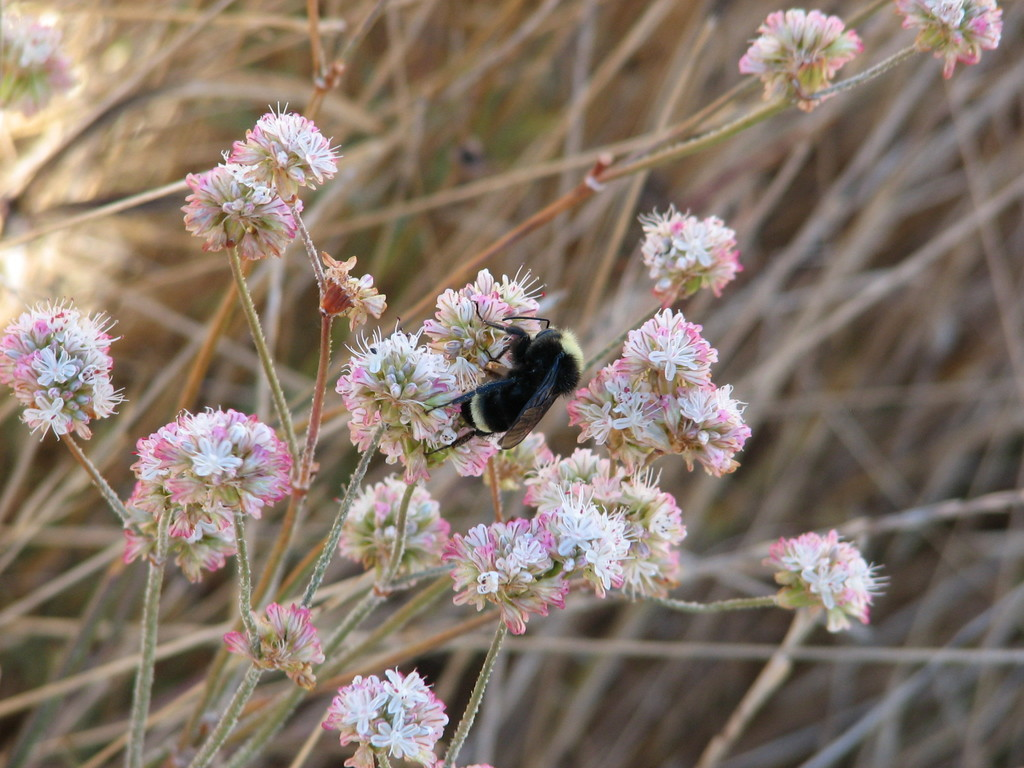bumblebee: (422, 299, 583, 458)
